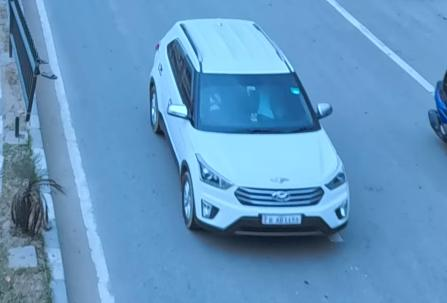car: (144, 15, 370, 242)
